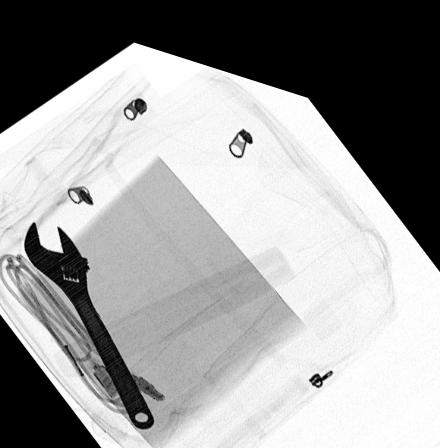Wrench: (20, 217, 154, 423)
